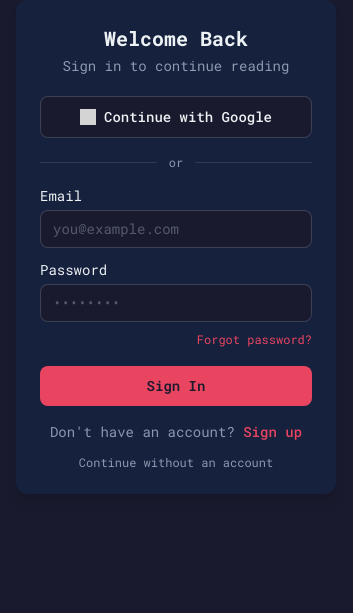
Test: Login Page › Sign Up Toggle › switches to sign up mode when clicking sign up link
What coordinates should you click on to do the following:
click the button "Sign up"
I would click on:
 (273, 432)
Its box is left=243, top=422, right=302, bottom=442.
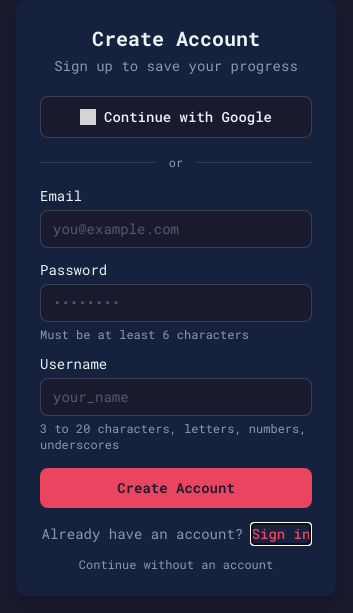
Expected: the heading "Create Account" is shown, left=92, top=25, right=260, bottom=51
Expected: the text "Sign up to save your progress" is shown, left=40, top=56, right=312, bottom=76
